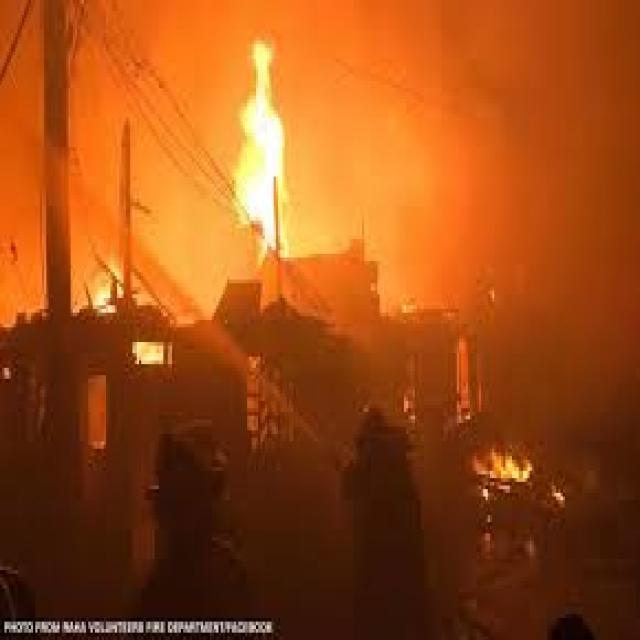Fire: (236, 36, 298, 262), (79, 250, 132, 316), (476, 443, 538, 492)
